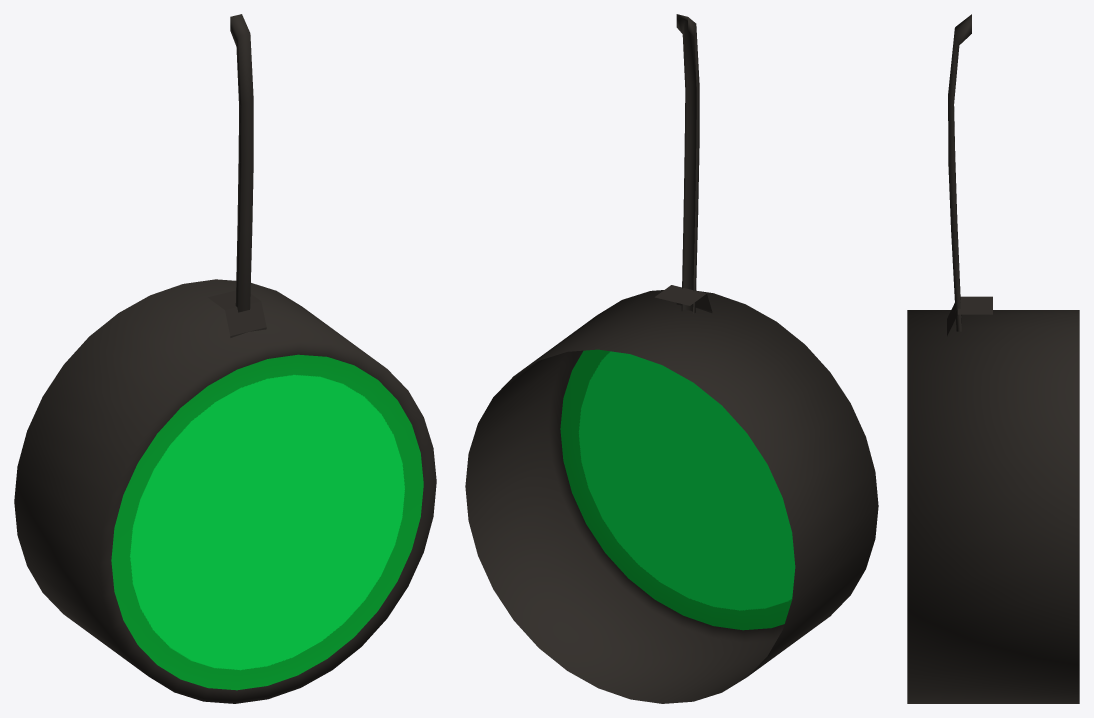
Rendered from PlusTime.fbx.
3 views of the same model, side by side, from view 1: azimuth 30°, elevation 25°; view 2: azimuth 150°, elevation 25°; view 3: azimuth 270°, elevation 25° (orthographic). The views are drawn at different scales.
Parts seen in each view (by area): view 1: PlusTime; view 2: PlusTime; view 3: PlusTime.
Part boxes in pixels (box(x1,y1,x2,y2)): PlusTime: box(14, 14, 436, 703); PlusTime: box(465, 14, 878, 703); PlusTime: box(907, 14, 1079, 703).
Size of the model in its own units: 0.604 by 1.13 by 0.2639.
